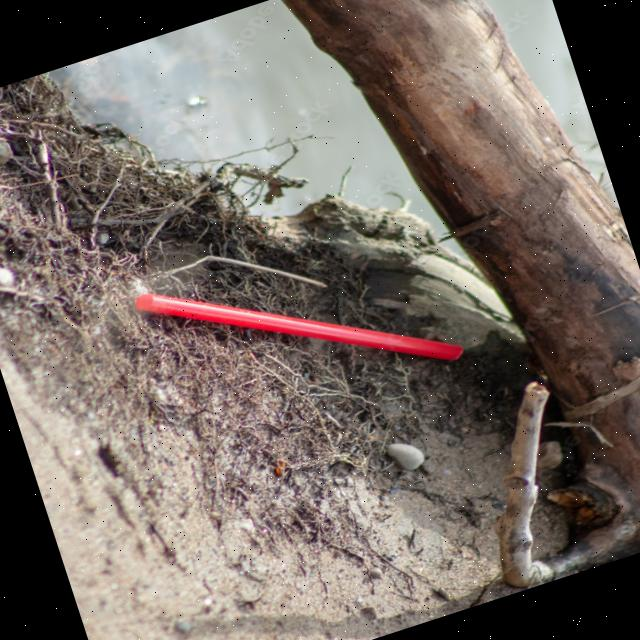plastic: (114, 183, 497, 467)
